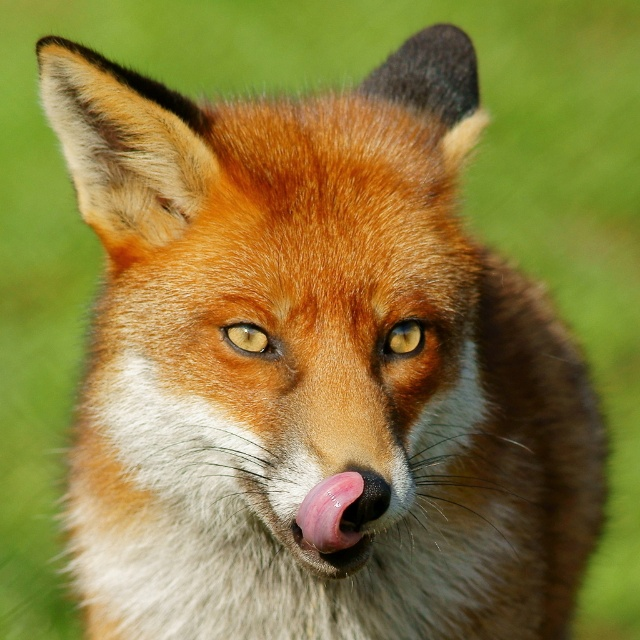Fox: (32, 20, 635, 639)
